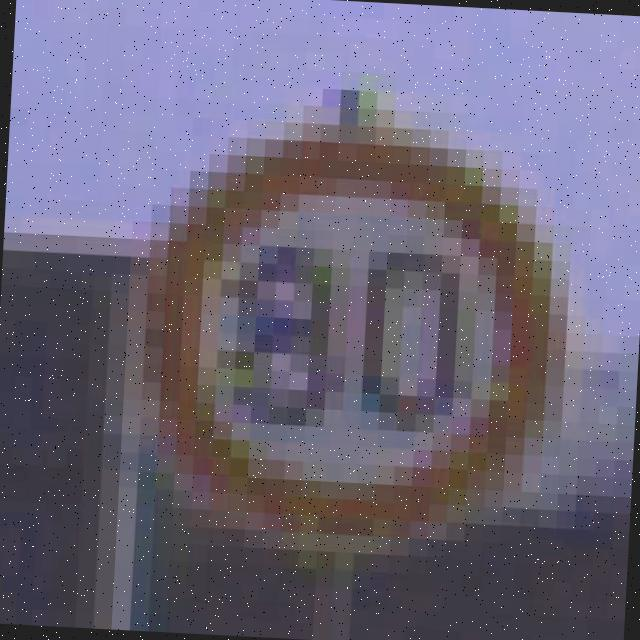Ograniczenie predkosci do 80: (130, 128, 570, 559)
